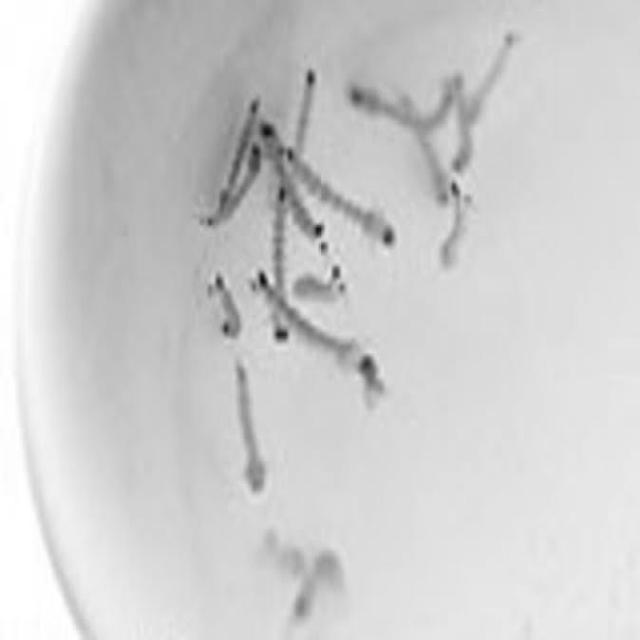larvas: (253, 270, 384, 392), (294, 159, 393, 245), (258, 121, 321, 236), (349, 75, 461, 135), (216, 98, 258, 218), (470, 31, 516, 122), (235, 360, 265, 494), (291, 549, 341, 620), (218, 143, 261, 215), (441, 179, 471, 264), (418, 135, 451, 200), (292, 69, 316, 153), (209, 273, 240, 336), (292, 264, 346, 297), (273, 190, 287, 301), (452, 105, 473, 172), (273, 309, 290, 342)
